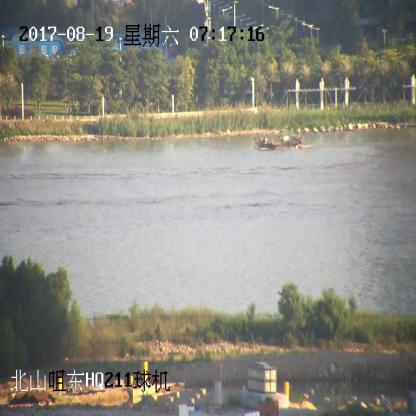Fishing Boat: (257, 133, 304, 151)
